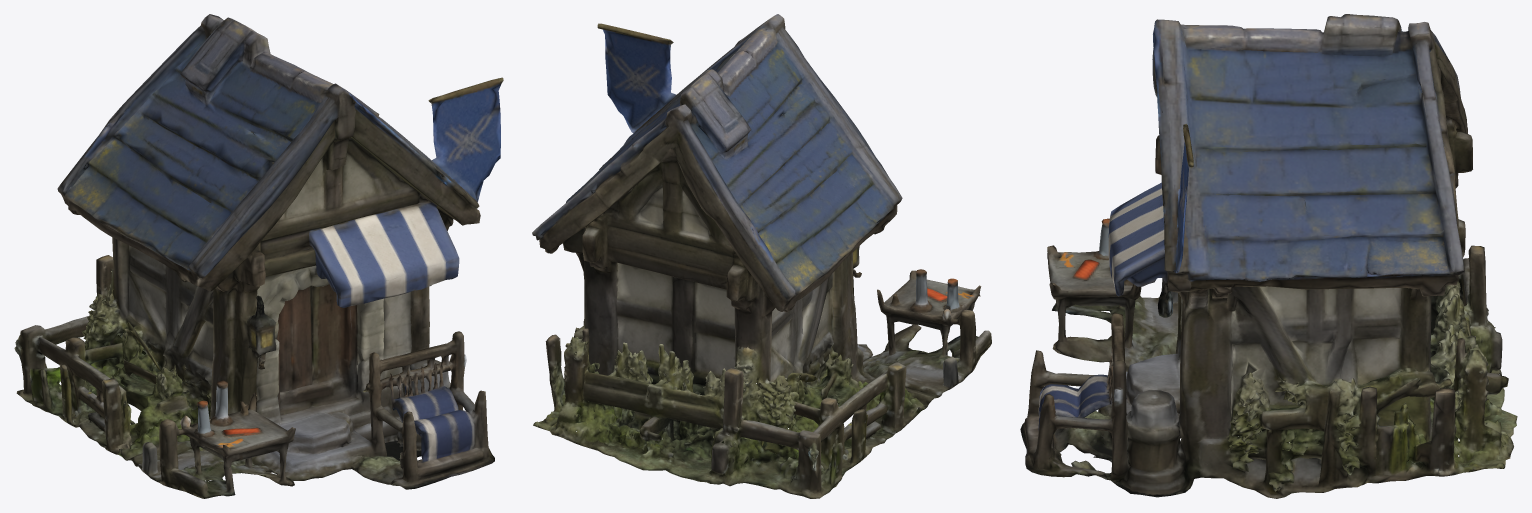
Rendered from weaver.glb.
3 views of the same model, side by side, from view 1: azimuth 30°, elevation 25°; view 2: azimuth 150°, elevation 25°; view 3: azimuth 270°, elevation 25° (orthographic). The views are drawn at different scales.
Visible parts, largest first — view 1: weaver_s7_fit; view 2: weaver_s7_fit; view 3: weaver_s7_fit.
Part boxes in pixels (left/top/right/bottom): weaver_s7_fit: left=14, top=14, right=503, bottom=498; weaver_s7_fit: left=532, top=14, right=991, bottom=498; weaver_s7_fit: left=1020, top=14, right=1517, bottom=498.
Bounding box in the file's own units: 3.51 × 3.38 × 3.61.
1 material, 1 textured.
